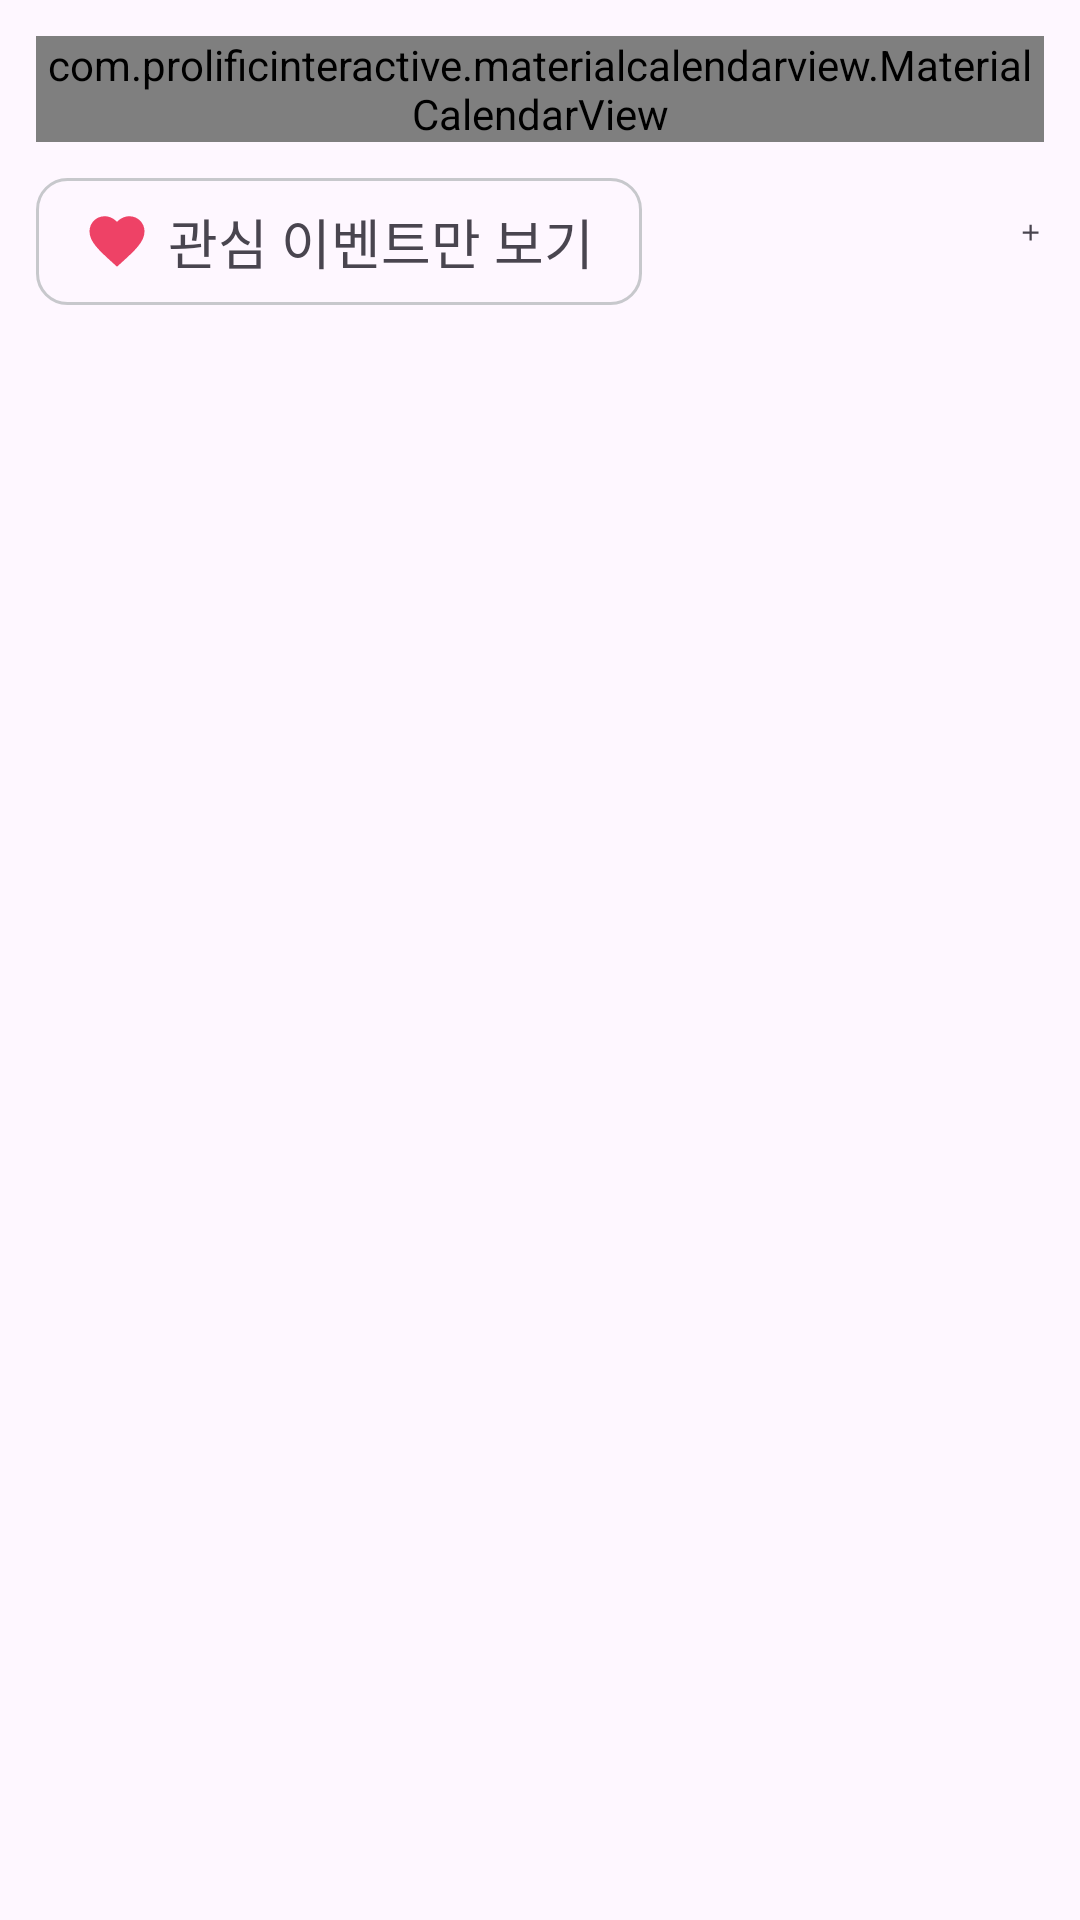

Screen size 1080*1920. Icon name, then its box in pixels as [left=x1, top=y1, right=x2, bottom=y2]:
favorite: [left=89, top=216, right=145, bottom=267]
